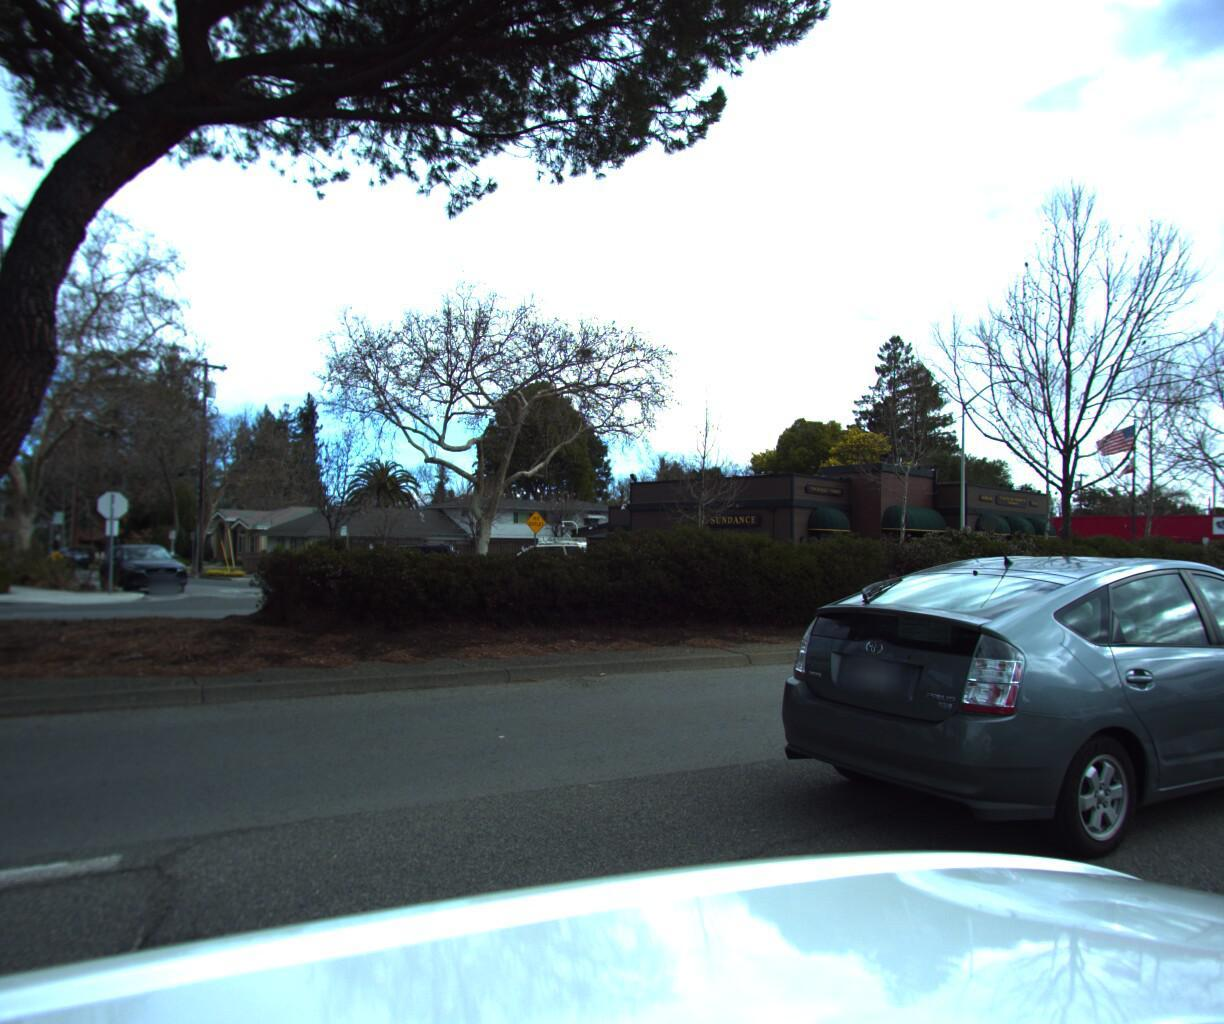car: (741, 543, 1224, 911), (89, 542, 195, 595), (483, 539, 591, 581), (362, 538, 460, 574)
